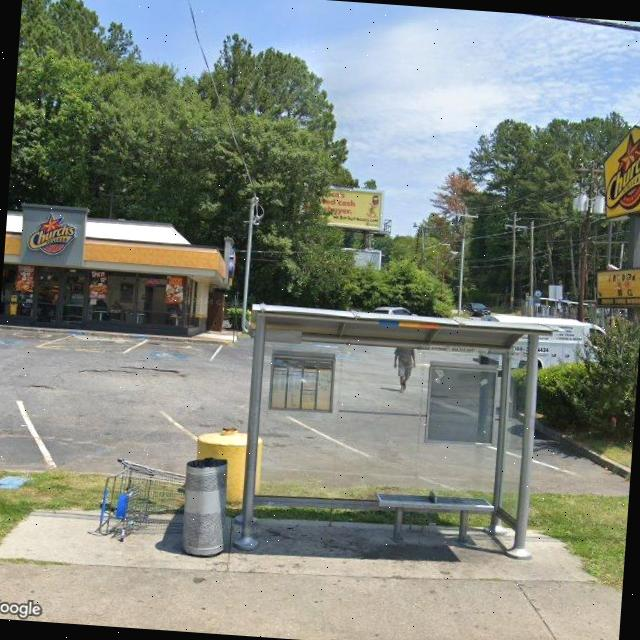seating: (372, 487, 494, 549)
shelter: (234, 303, 566, 571)
trash_can: (177, 456, 230, 558)
